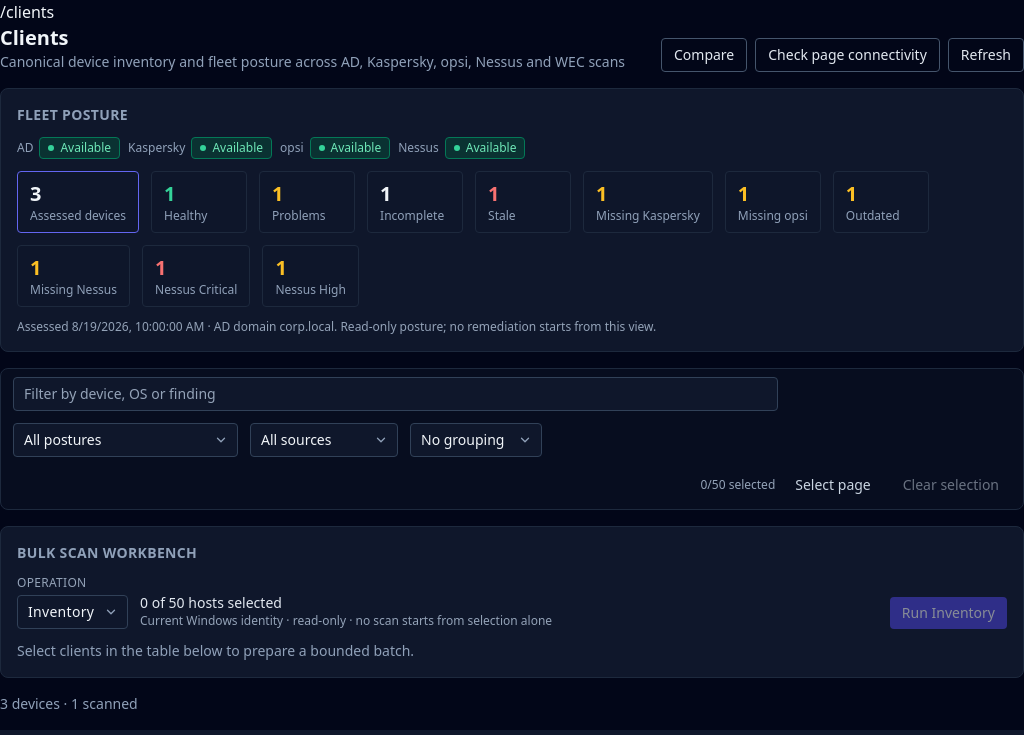
Test: ClientsPage › filters by source on the host and opens the common detail route
The image size is (1024, 735).
Select "opsi" in the dropdown named "Filter clients by source" at (324, 440), box [250,423,398,457]
(page scrolled)
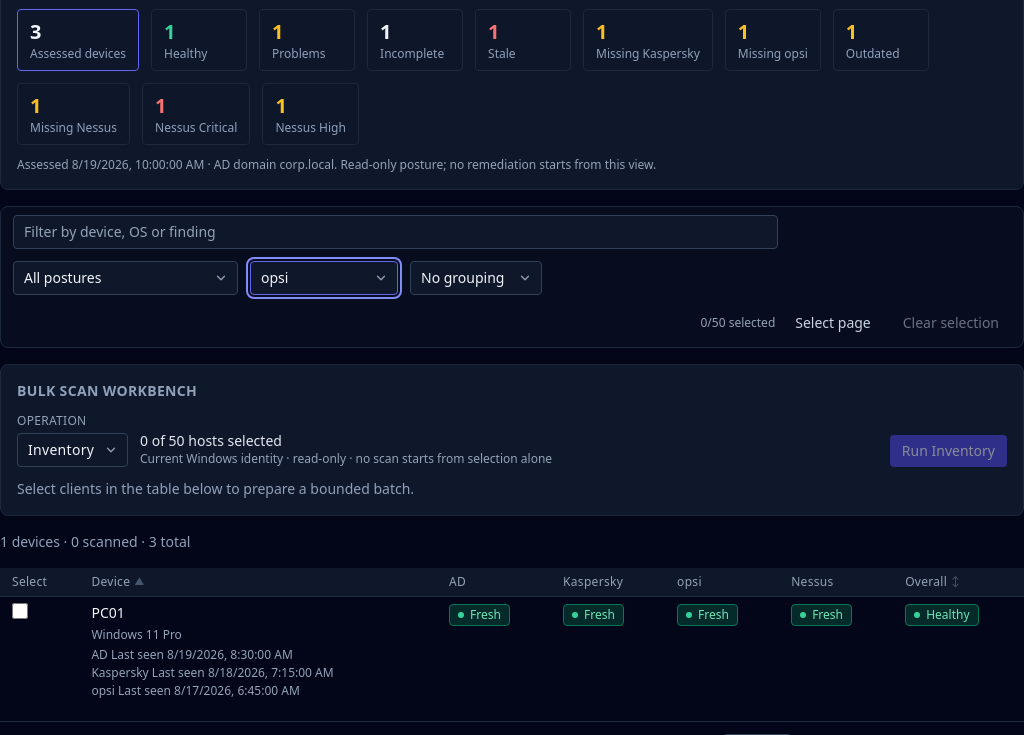
Check: the button "DISABLED-PC" is not shown
Click the text "PC01" at (108, 612), box [91,603,125,622]
(page scrolled)
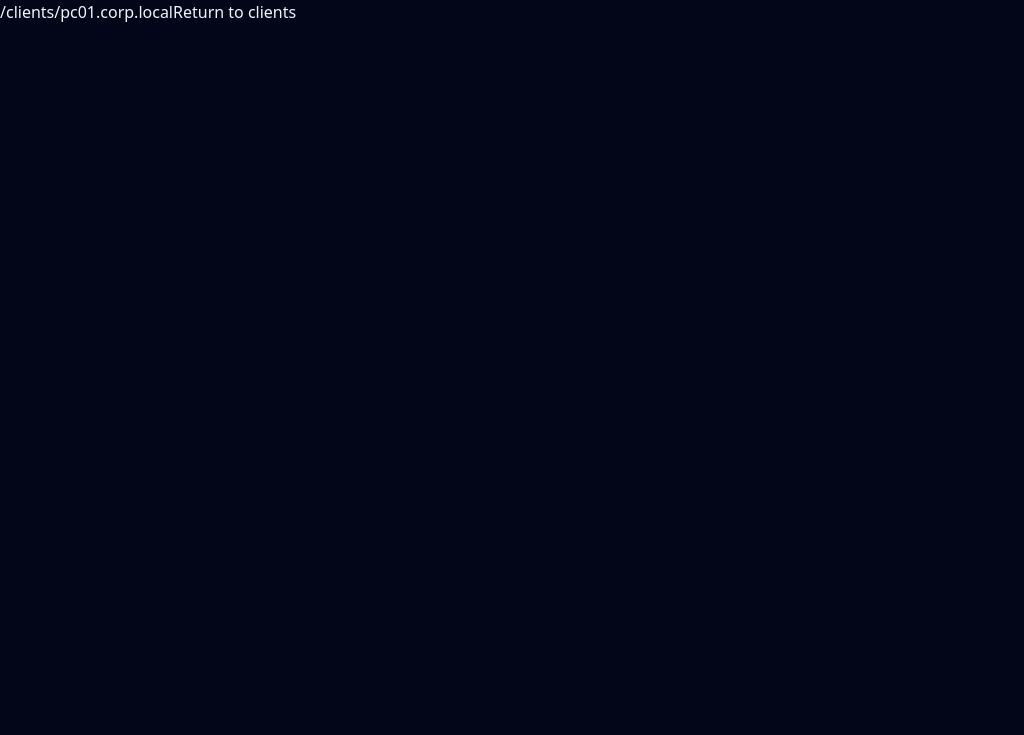
Check: the button "Return to clients" is shown, box [173,0,296,24]
